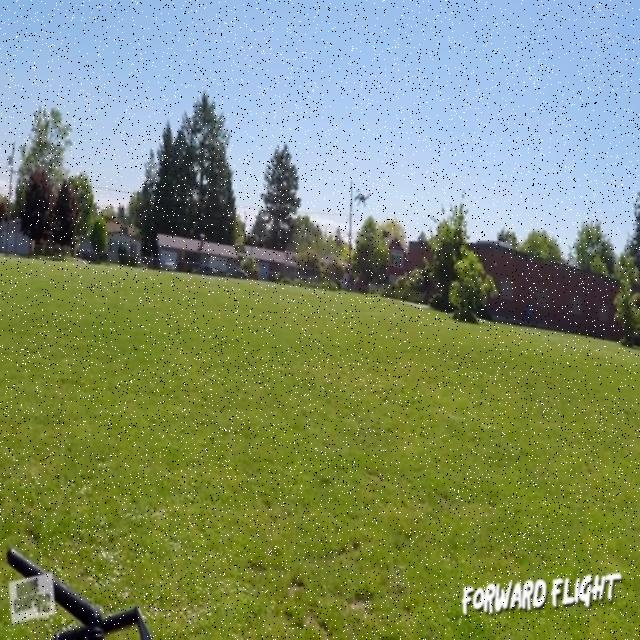UAV: (354, 190, 372, 207)
